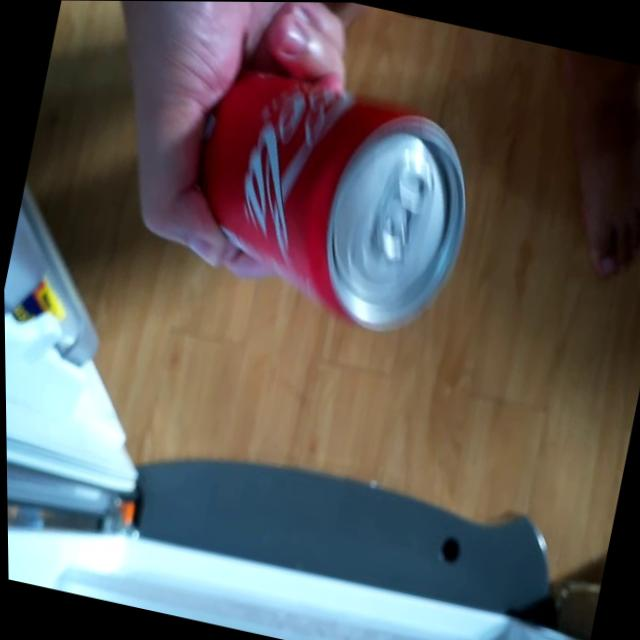coke: (157, 26, 503, 354)
